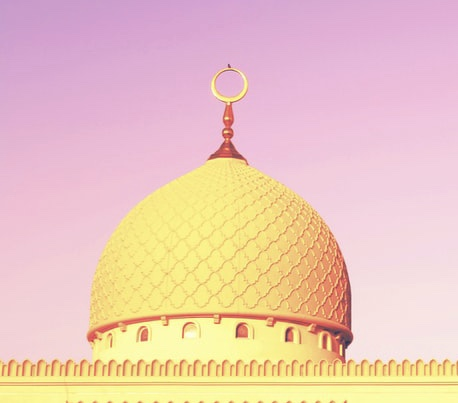Mosque: (53, 53, 396, 385)
